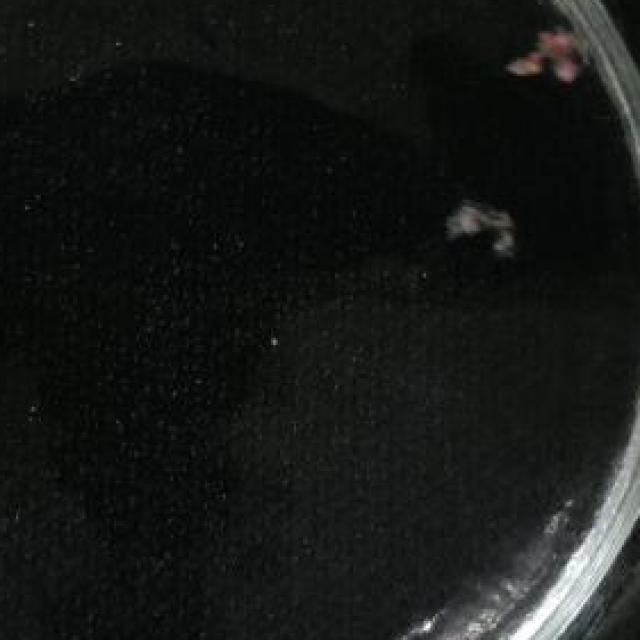Microplastic: (487, 0, 599, 93), (431, 190, 526, 262)
